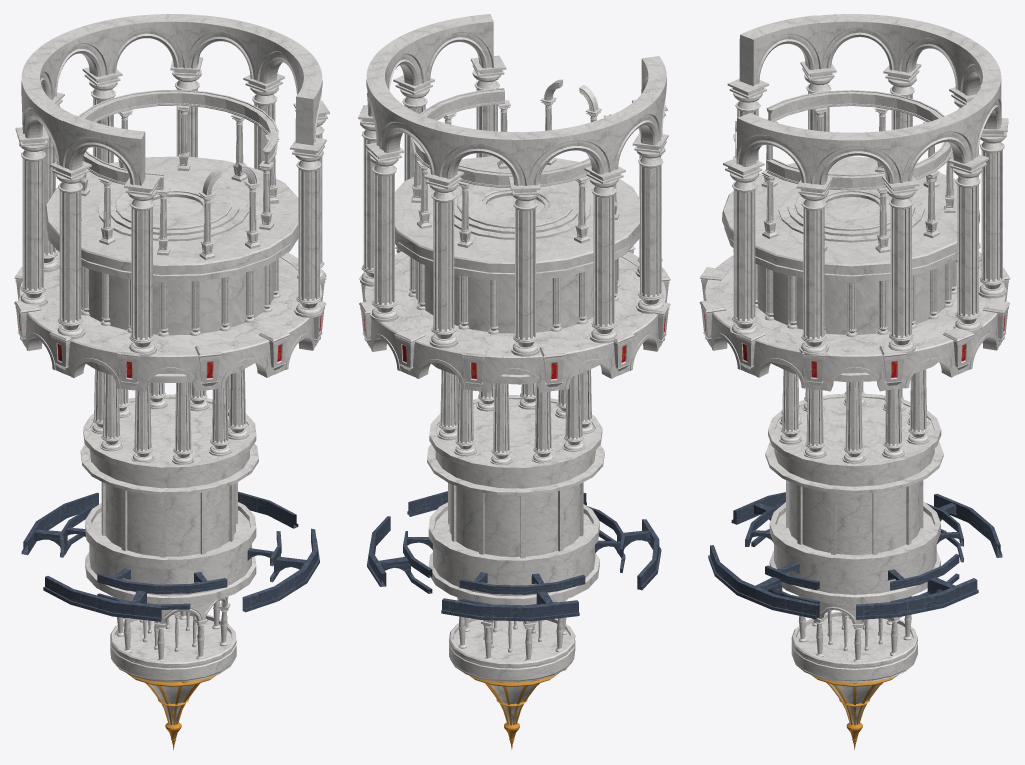
File: BgMD_Ruins_Area1_Set.fbx
3 renders of one model, left to right at view 1: azimuth 30°, elevation 25°; view 2: azimuth 150°, elevation 25°; view 3: azimuth 270°, elevation 25°, orthographic.
Visible parts, largest first — view 1: SM_Ruins_pedestal, top, altar, polySurface1502, polySurface1495, polySurface1486, polySurface1501, polySurface1485, polySurface1481, polySurface1480, polySurface1482, polySurface1479 (+17 smaller); view 2: SM_Ruins_pedestal, top, altar, polySurface1499, polySurface1501, polySurface1502, polySurface1498, polySurface1500, polySurface1482, polySurface1483, polySurface1478, polySurface1481 (+16 smaller); view 3: SM_Ruins_pedestal, top, altar, polySurface1495, polySurface1498, polySurface1496, polySurface1497, polySurface1499, polySurface1479, polySurface1485, polySurface1478, polySurface1480 (+18 smaller).
Boxes of the visible parts, bbox=[...] form: SM_Ruins_pedestal: bbox=[21, 362, 319, 749]; top: bbox=[40, 156, 306, 372]; altar: bbox=[98, 177, 248, 241]; polySurface1502: bbox=[50, 161, 91, 339]; polySurface1495: bbox=[290, 138, 326, 317]; polySurface1486: bbox=[124, 175, 160, 356]; polySurface1501: bbox=[15, 126, 48, 306]; polySurface1485: bbox=[62, 115, 145, 185]; polySurface1481: bbox=[99, 14, 186, 74]; polySurface1480: bbox=[185, 14, 268, 80]; polySurface1482: bbox=[37, 22, 107, 97]; polySurface1479: bbox=[257, 29, 316, 94]; SM_Ruins_pedestal: bbox=[367, 362, 661, 749]; top: bbox=[393, 156, 643, 350]; altar: bbox=[453, 183, 590, 239]; polySurface1499: bbox=[423, 170, 464, 348]; polySurface1501: bbox=[584, 166, 625, 343]; polySurface1502: bbox=[632, 132, 668, 313]; polySurface1498: bbox=[365, 142, 404, 321]; polySurface1500: bbox=[509, 176, 540, 356]; polySurface1482: bbox=[439, 124, 526, 185]; polySurface1483: bbox=[526, 120, 610, 185]; polySurface1478: bbox=[411, 14, 493, 82]; polySurface1481: bbox=[379, 99, 448, 176]; SM_Ruins_pedestal: bbox=[708, 361, 1002, 749]; top: bbox=[718, 156, 990, 372]; altar: bbox=[778, 188, 924, 242]; polySurface1495: bbox=[723, 158, 764, 337]; polySurface1498: bbox=[948, 154, 989, 332]; polySurface1496: bbox=[796, 177, 832, 356]; polySurface1497: bbox=[882, 176, 919, 353]; polySurface1499: bbox=[978, 118, 1008, 298]; polySurface1479: bbox=[812, 129, 901, 184]; polySurface1485: bbox=[739, 15, 820, 86]; polySurface1478: bbox=[736, 113, 816, 183]; polySurface1480: bbox=[896, 109, 973, 182].
Bounding box in the file's own units: 3474 × 8247 × 3457.
